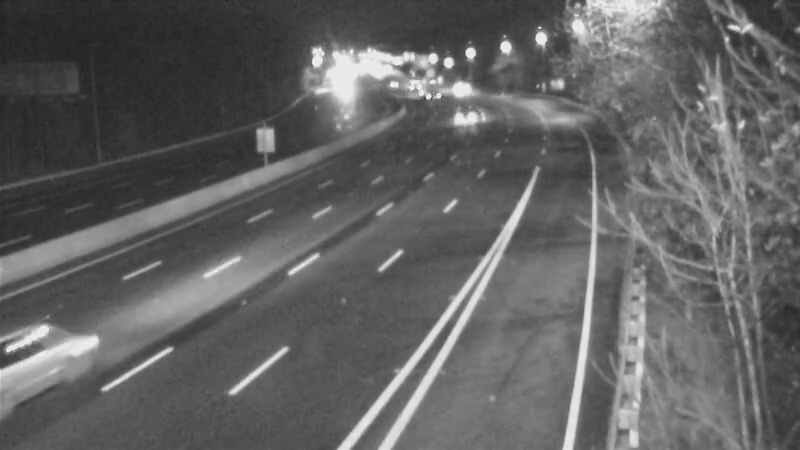vehicle: (1, 313, 103, 423), (431, 63, 481, 113), (408, 67, 458, 117), (438, 98, 488, 148)
